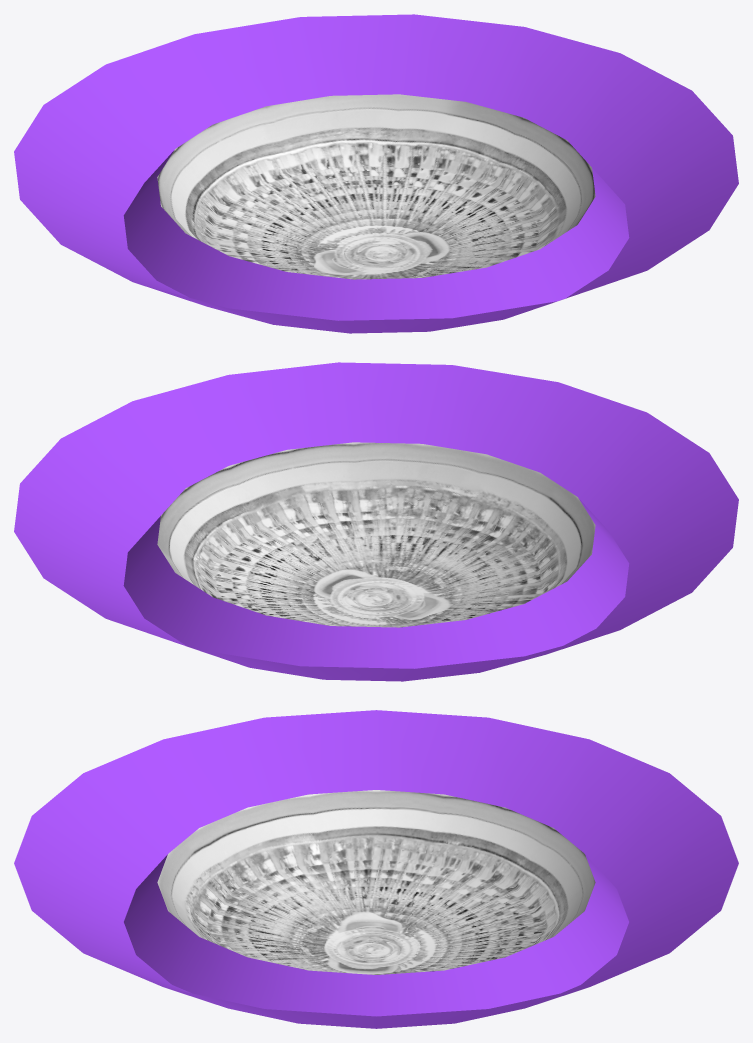
The model's file is LightCeiling01_1.FBX.
3 views of the same model, one above another, from view 1: azimuth 30°, elevation 25°; view 2: azimuth 150°, elevation 25°; view 3: azimuth 270°, elevation 25° (orthographic).
Visible parts, largest first — view 1: LightCeiling01_1; view 2: LightCeiling01_1; view 3: LightCeiling01_1.
Boxes of the visible parts, x1,y1,x2,y2 form: LightCeiling01_1: (14,14,738,333); LightCeiling01_1: (14,362,738,681); LightCeiling01_1: (14,710,738,1028).
Bounding box in the file's own units: 16.97 × 2.22 × 16.97.
